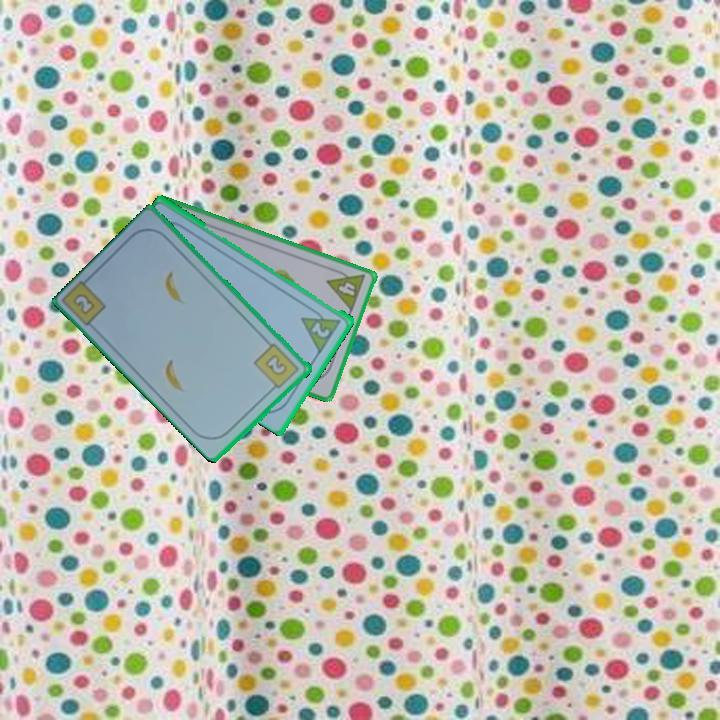2b: (251, 340, 303, 394), (70, 290, 98, 318)
2p: (308, 318, 333, 341)
4p: (323, 264, 368, 314)
